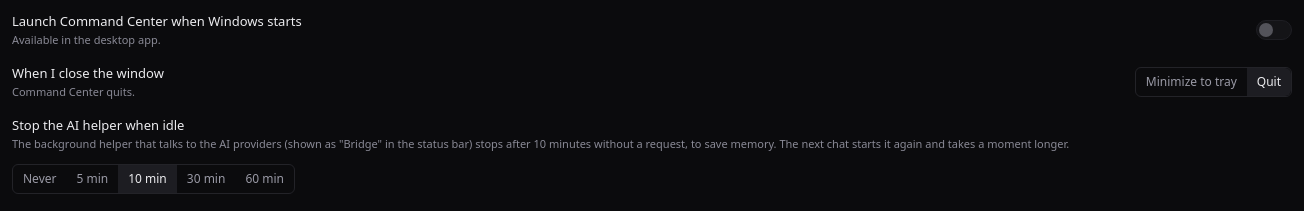
Test: SystemControls idle stop › sets bridgeIdleMinutes from the segmented control, Never included
Step 1. Click the button "30 min" → x=206, y=179, box x1=177 y1=165 x2=235 y2=193
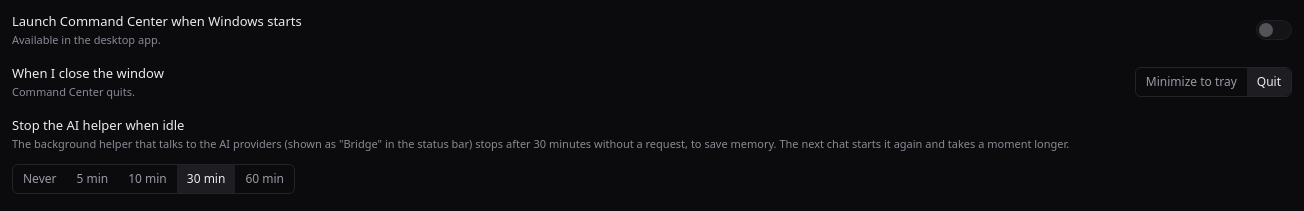
Result: the text "stops after 30 minutes without a request" is shown at x1=12 y1=136 x2=1069 y2=150
Step 2. Click the button "Never" → x=40, y=179, box x1=13 y1=165 x2=66 y2=193
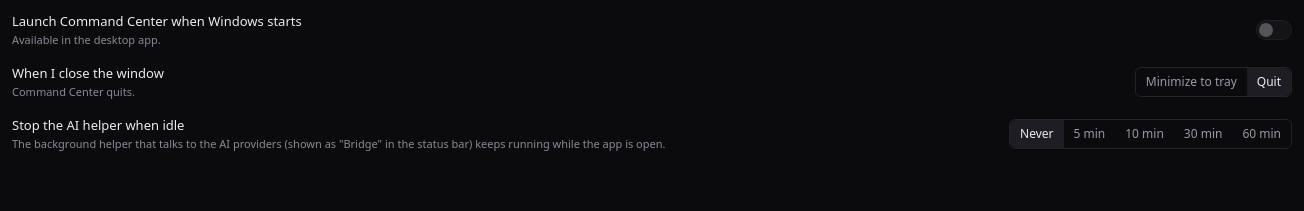
Result: the text "keeps running while the app is open" is shown at x1=12 y1=136 x2=666 y2=150
